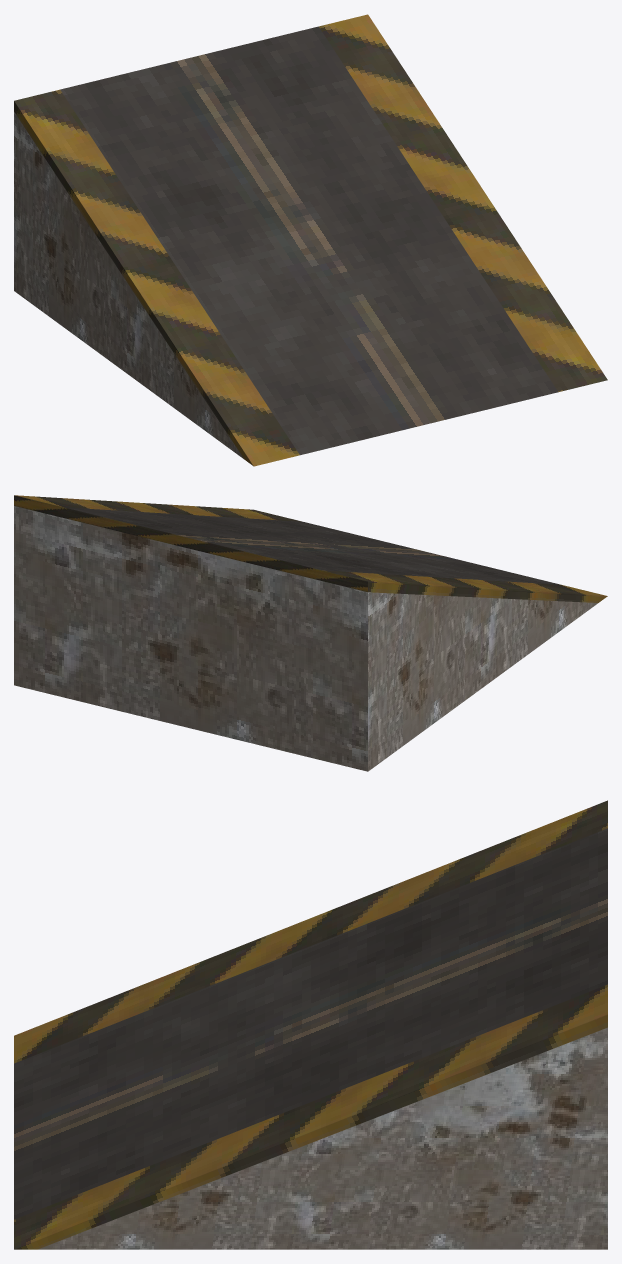
Rendered from car_ramp_01.glb.
3 renders of one model, top to bottom at view 1: azimuth 30°, elevation 25°; view 2: azimuth 150°, elevation 25°; view 3: azimuth 270°, elevation 25°, orthographic. The views are drawn at different scales.
Parts seen in each view (by area): view 1: car_ramp_01; view 2: car_ramp_01; view 3: car_ramp_01.
Boxes of the visible parts, x1,y1,x2,y2 form: car_ramp_01: (14,14,607,466); car_ramp_01: (14,495,607,771); car_ramp_01: (14,800,607,1249).
Size of the model in its own units: 3.9 by 2 by 4.57.
3 materials, 3 textured.
